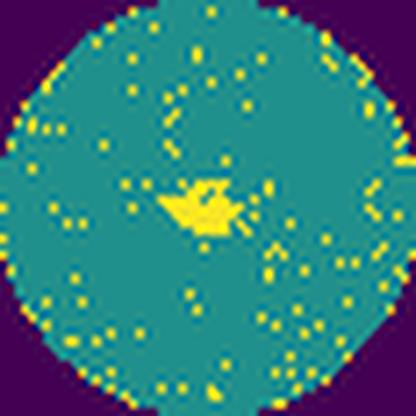Center: (151, 181, 247, 238)
